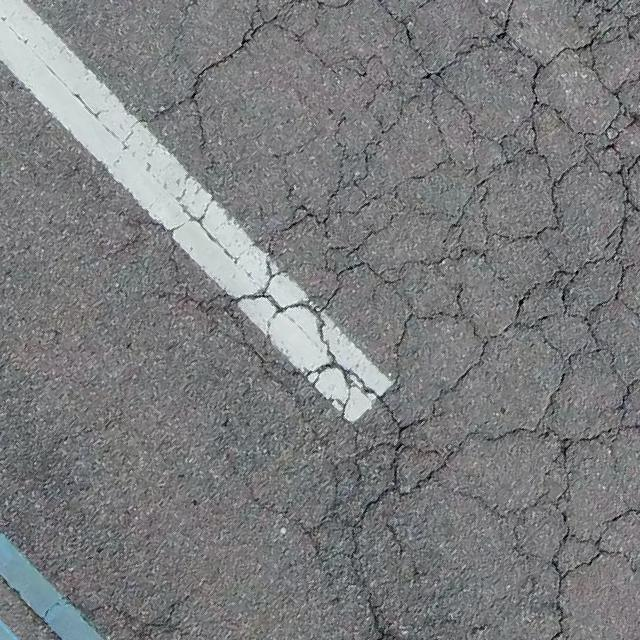PIEL DE COCODRILO: (116, 0, 639, 639)
